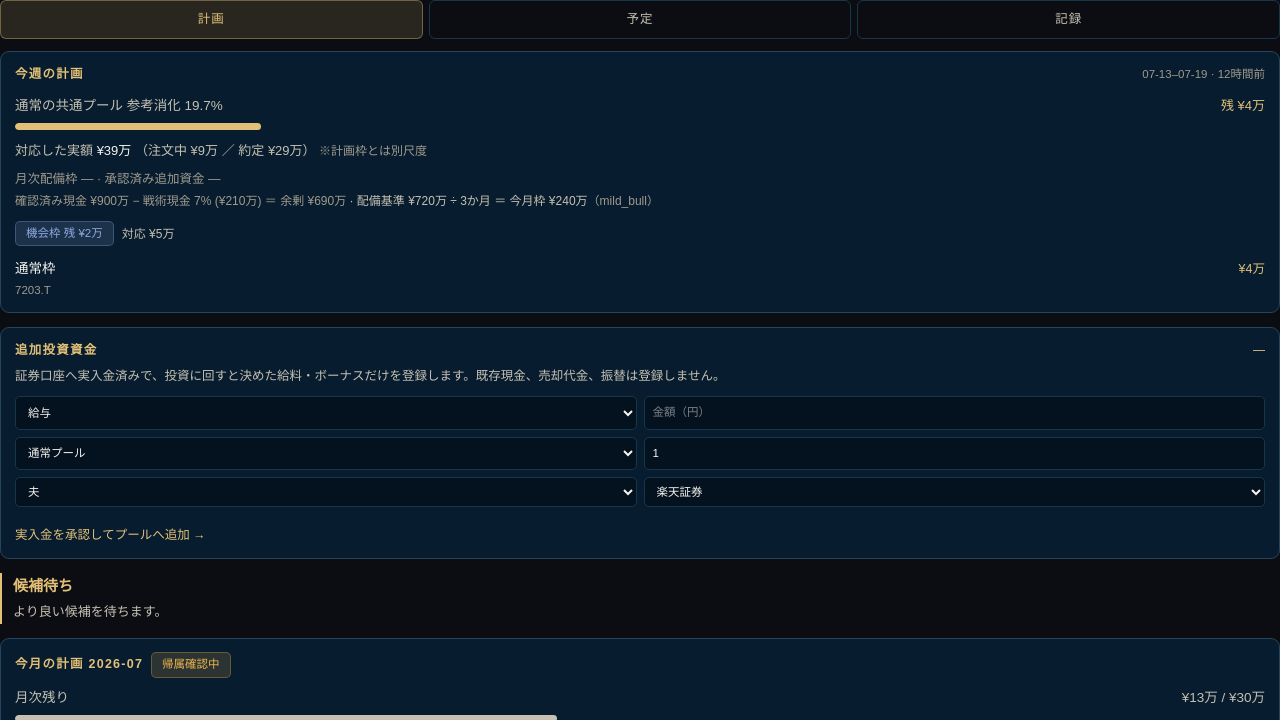
it: PlanRail › switches between plan, schedule, and record without refetching
The width and height of the screenshot is (1280, 720).
Click the tab "予定": [640, 19] box [429,0,851,39]
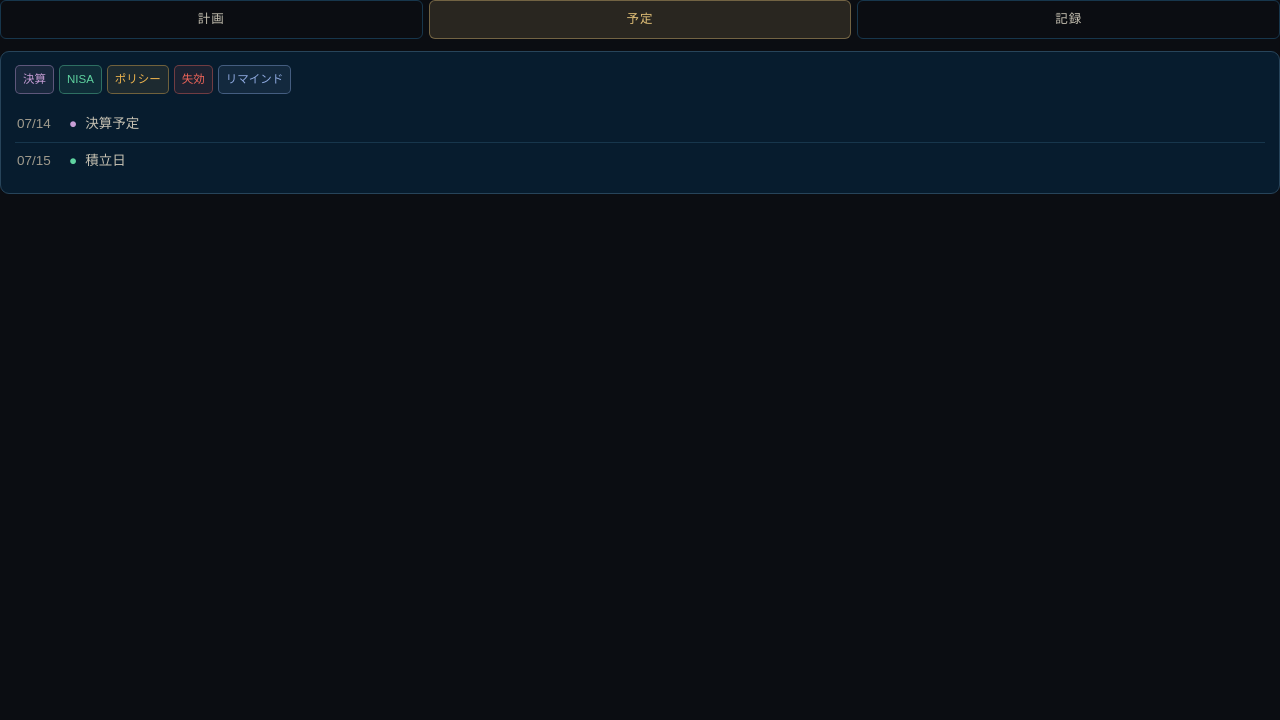
Now the text "決算予定" is shown, box [85,116,139,131]
Click the tab "記録": [1069, 19] box [857,0,1279,39]
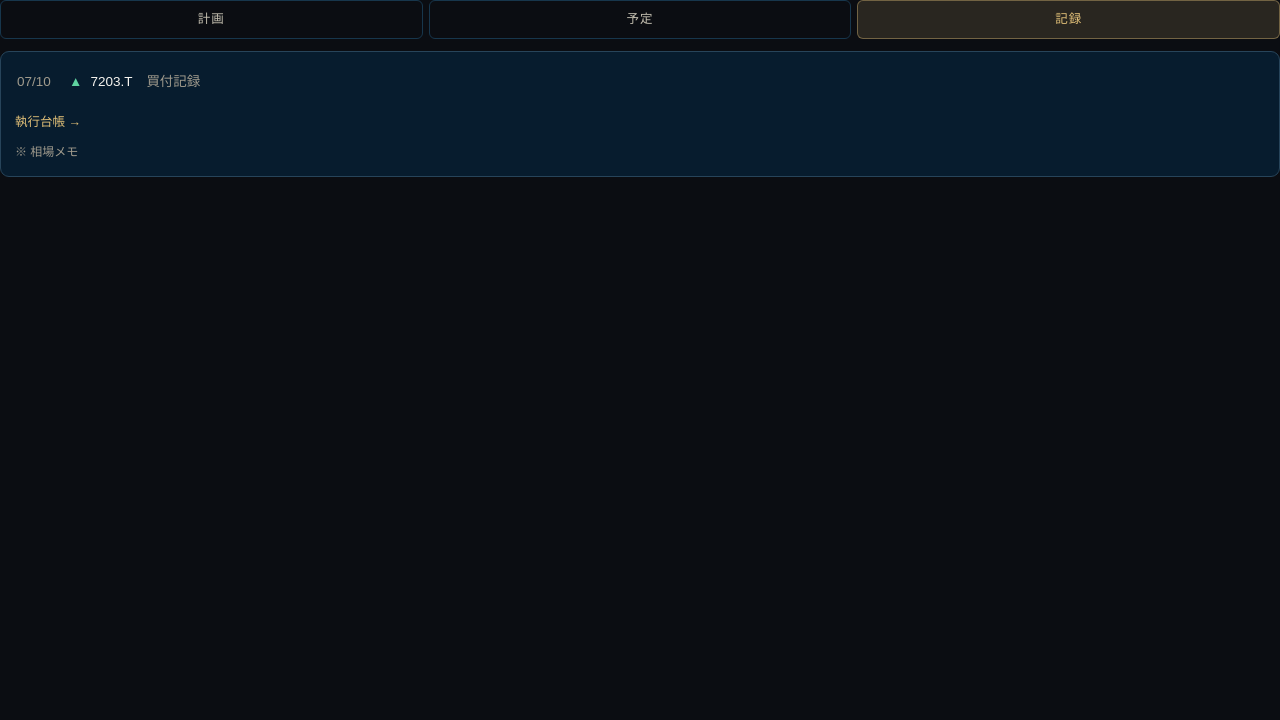
Now the text "買付記録" is shown, box [146,72,200,92]
